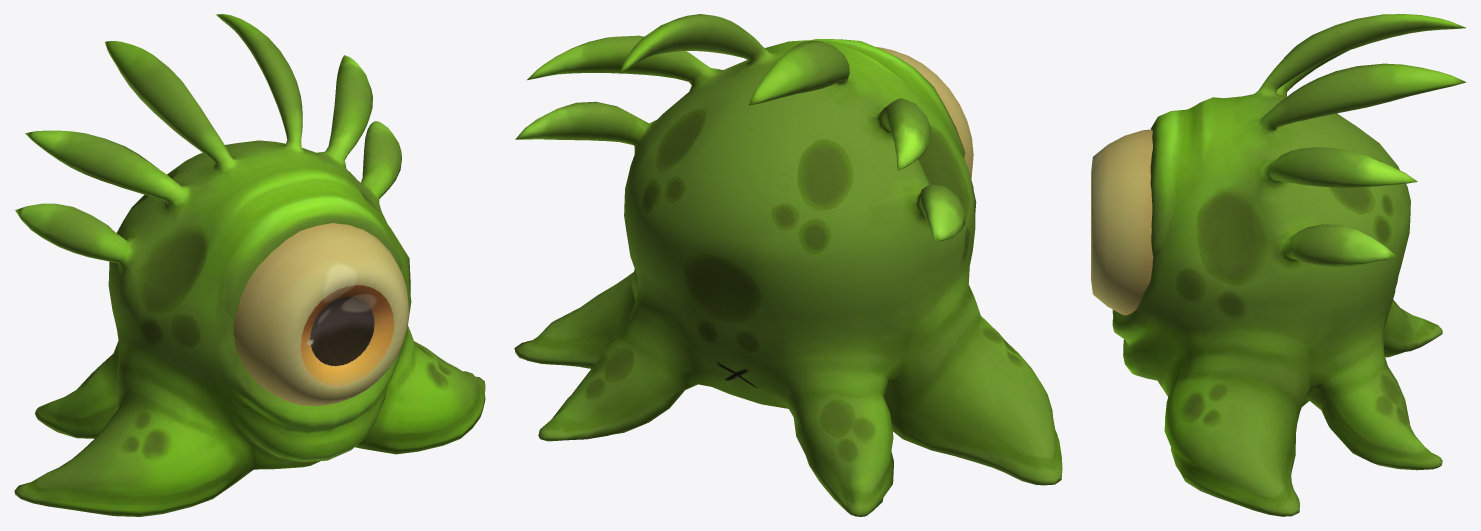
Rendered from Alien cute.fbx.
The picture shows the model from 3 angles, left to right: view 1: azimuth 30°, elevation 25°; view 2: azimuth 150°, elevation 25°; view 3: azimuth 270°, elevation 25°; orthographic projection. The views are drawn at different scales.
Parts seen in each view (by area): view 1: 1; view 2: 1; view 3: 1.
Part boxes in pixels (x1,y1,x2,y2): 1: (14,14,485,516); 1: (514,14,1062,516); 1: (1091,14,1466,516).
Bounding box in the file's own units: 408 × 306 × 285.
2 materials, 2 textured.
